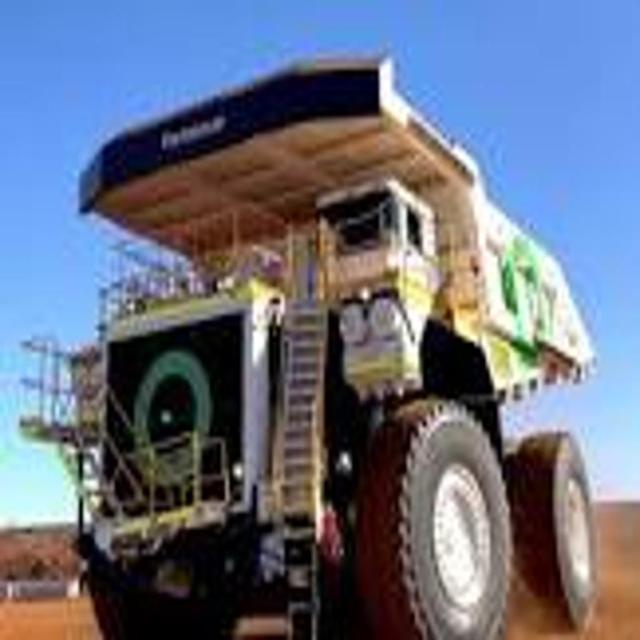dump_truck: (16, 42, 602, 640)
